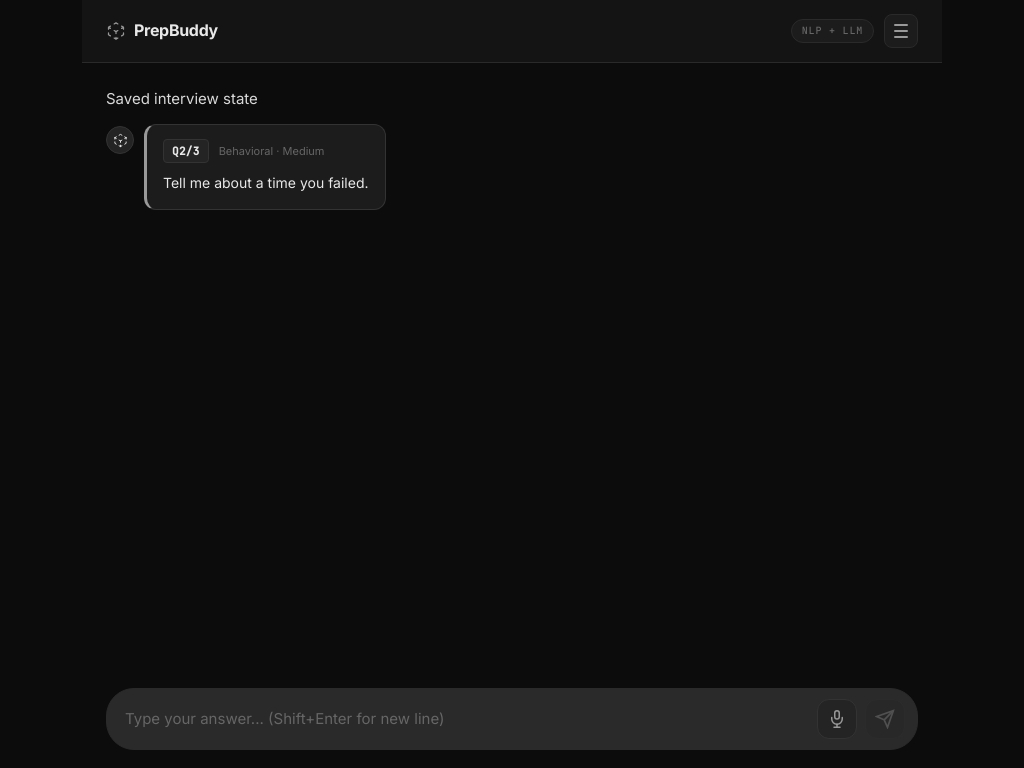
Test: App header menu › starts a new setup session from the header menu
This screenshot has width=1024, height=768.
Check: the text "Saved interview state" is shown, box x1=106 y1=87 x2=258 y2=110
Click the button named "open menu": click(901, 31) x1=884 y1=14 x2=918 y2=48
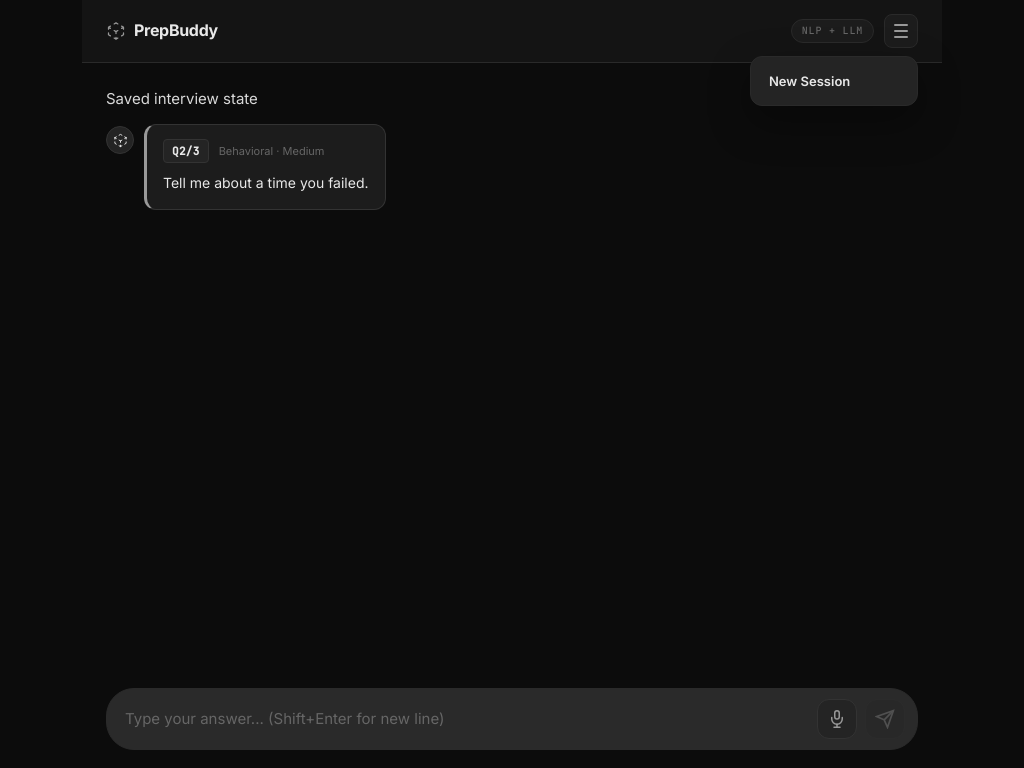
Click the menu item "New Session": click(834, 81) x1=757 y1=63 x2=911 y2=99
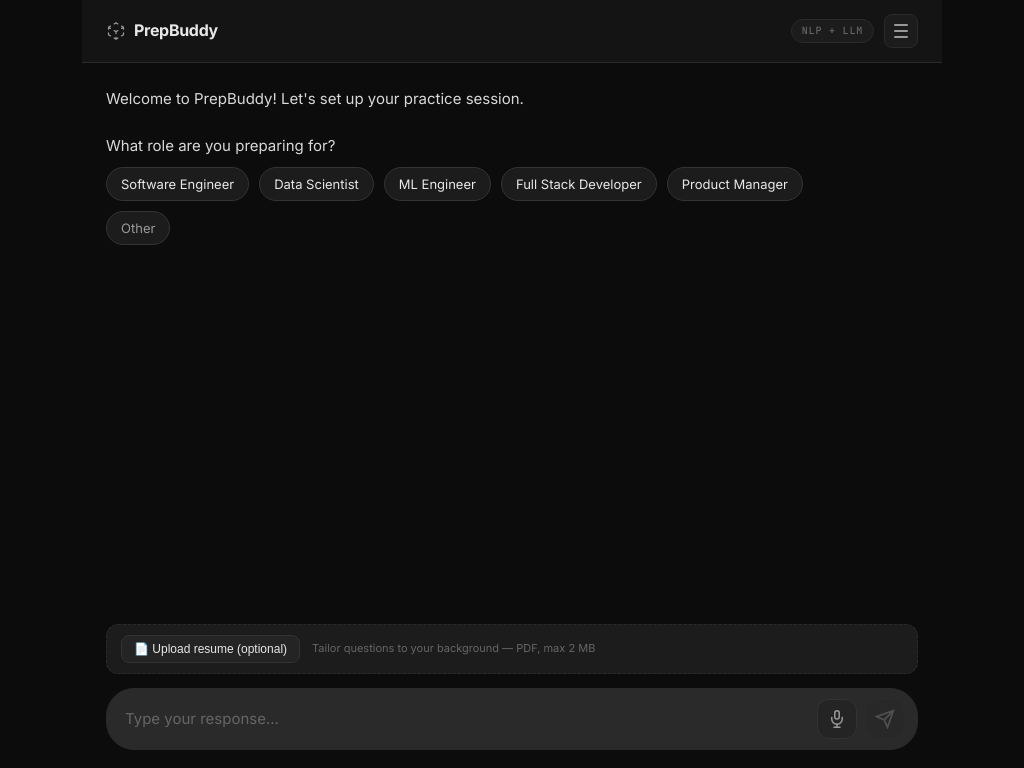
Check: the text box with placeholder "Type your response..." is enabled, box x1=123 y1=701 x2=809 y2=737
Check: the text "Welcome to PrepBuddy!" is shown, box x1=106 y1=89 x2=524 y2=108
